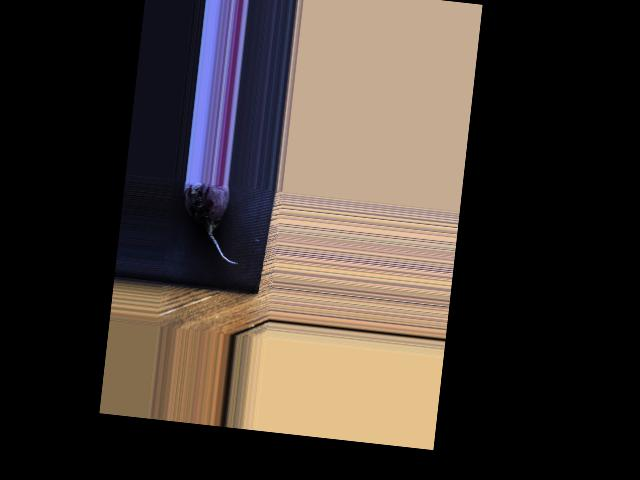beet: (176, 181, 245, 264)
